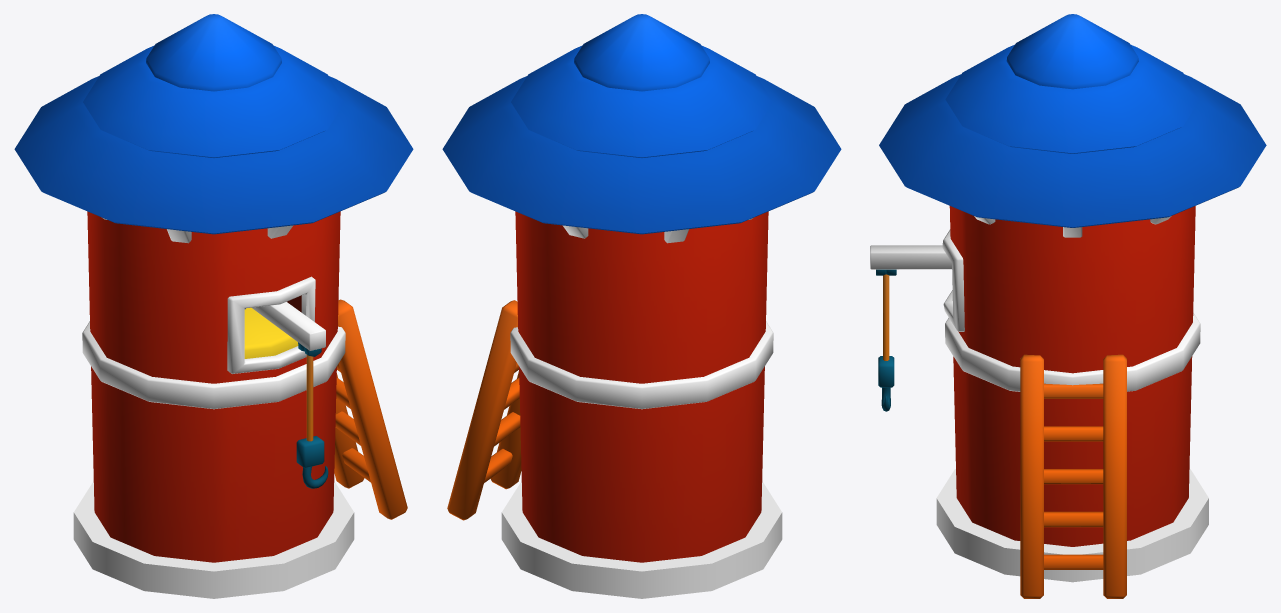
Rendered from Farm_House_Silo_01.fbx.
3 views of the same model, side by side, from view 1: azimuth 30°, elevation 25°; view 2: azimuth 150°, elevation 25°; view 3: azimuth 270°, elevation 25° (orthographic). The views are drawn at different scales.
Visible parts, largest first — view 1: Farm_House_Silo_01; view 2: Farm_House_Silo_01; view 3: Farm_House_Silo_01.
Part boxes in pixels (box(x1,y1,x2,y2)): Farm_House_Silo_01: box(14, 14, 413, 598); Farm_House_Silo_01: box(442, 14, 841, 598); Farm_House_Silo_01: box(870, 14, 1266, 598).
Size of the model in its own units: 838 by 1209 by 856.
